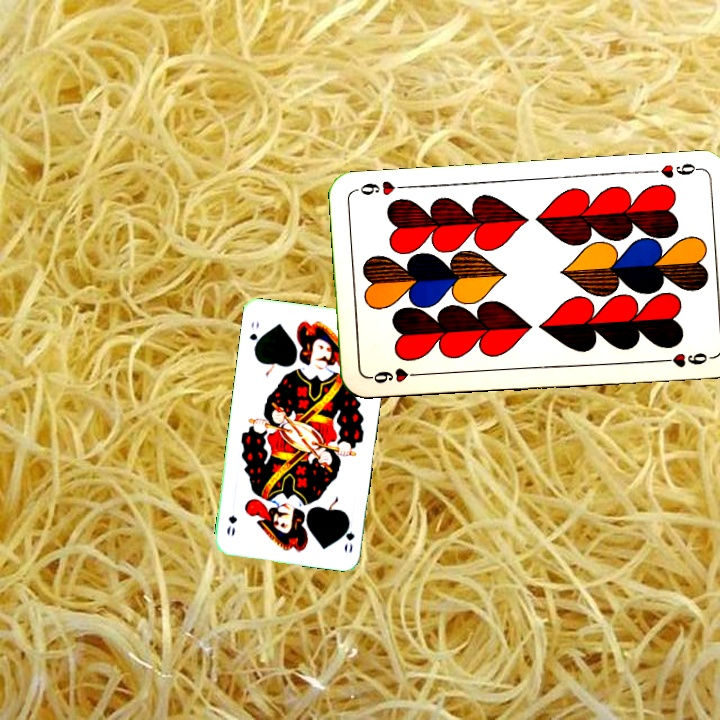GO: (339, 515, 357, 556), (245, 317, 262, 353)
H9: (364, 364, 423, 386), (642, 159, 701, 181)
